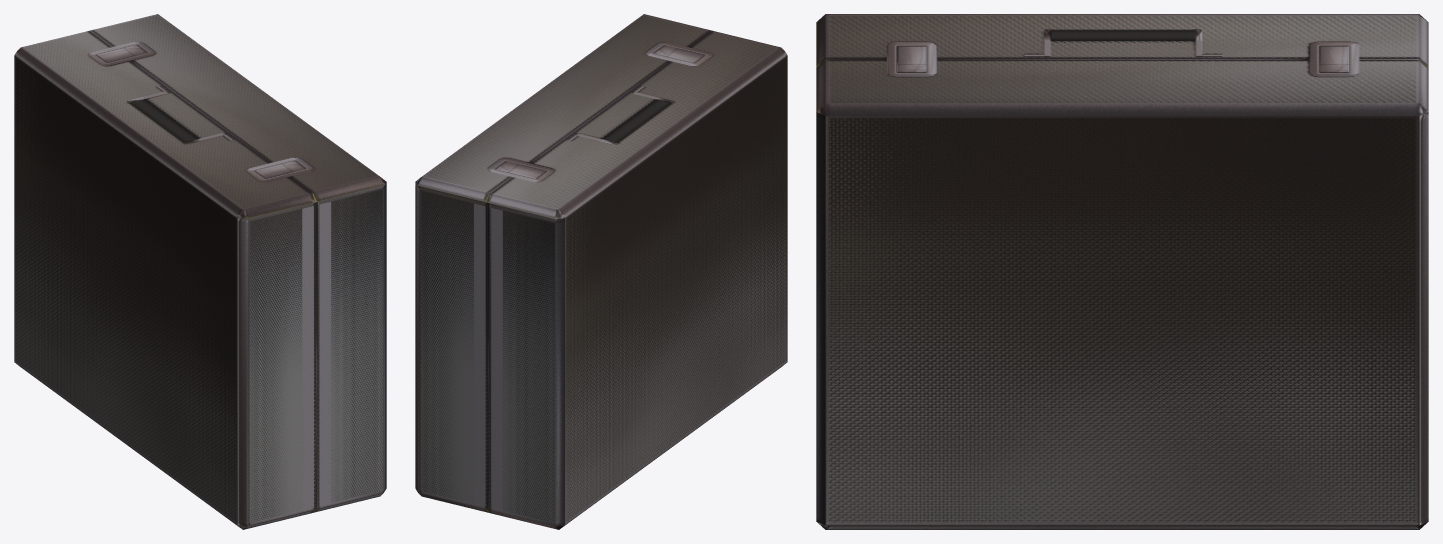
File: DropCase.fbx
3 views of the same model, side by side, from view 1: azimuth 30°, elevation 25°; view 2: azimuth 150°, elevation 25°; view 3: azimuth 270°, elevation 25° (orthographic). The views are drawn at different scales.
Parts seen in each view (by area): view 1: DropCase; view 2: DropCase; view 3: DropCase.
Boxes of the visible parts, x1,y1,x2,y2 form: DropCase: [14, 14, 386, 529]; DropCase: [415, 14, 787, 529]; DropCase: [816, 14, 1428, 529].
Bounding box in the file's own units: 75.27 × 154 × 200.
1 material, 1 textured.
